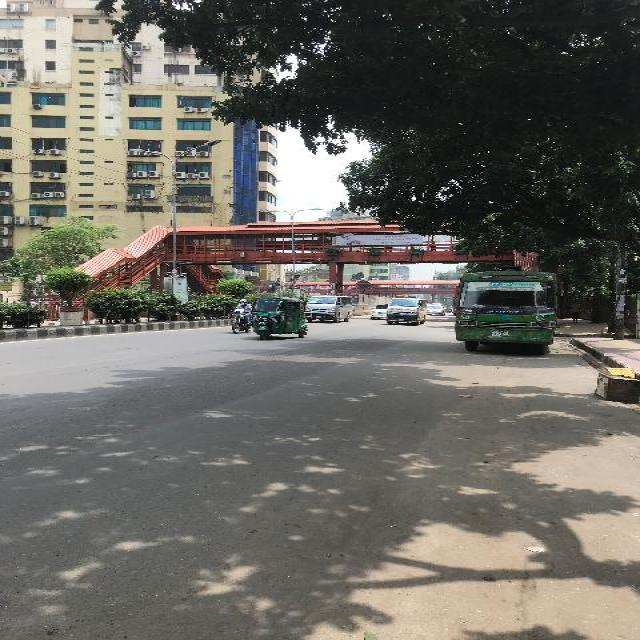bike: (228, 299, 254, 335)
vehicle: (451, 269, 562, 355), (252, 296, 310, 342), (385, 296, 428, 328), (306, 295, 355, 323), (370, 304, 389, 321), (428, 306, 446, 316)
